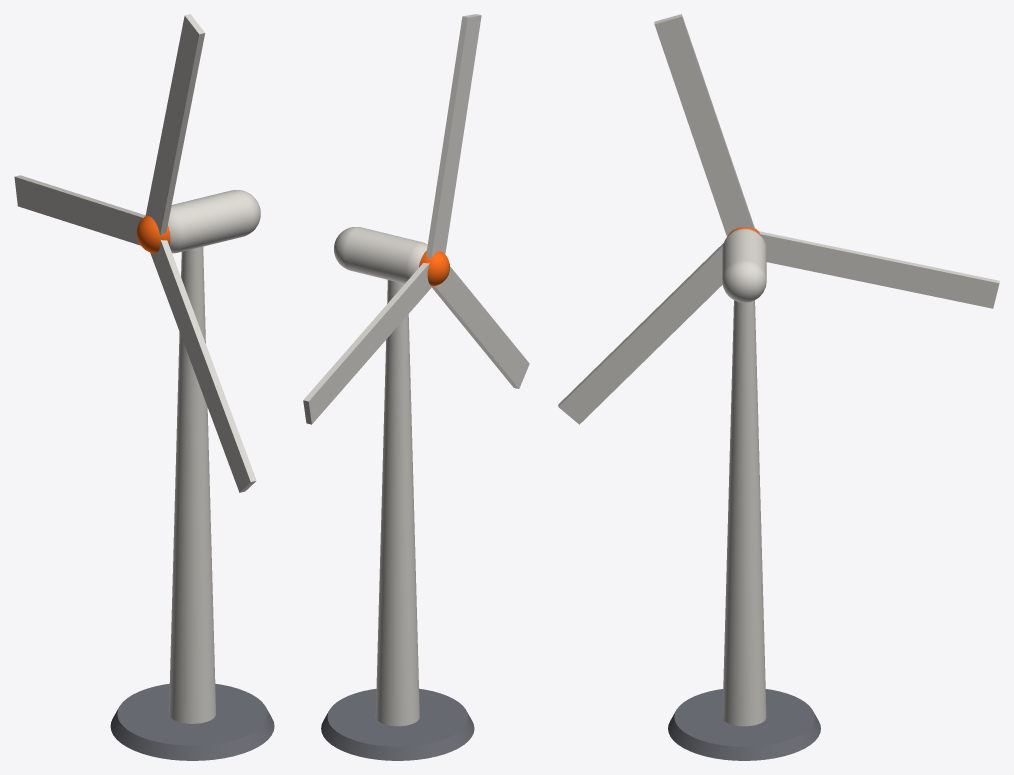
File: sample-model.glb
3 renders of one model, left to right at view 1: azimuth 30°, elevation 25°; view 2: azimuth 150°, elevation 25°; view 3: azimuth 270°, elevation 25°, orthographic. The views are drawn at different scales.
Bounding box in the file's own units: 48 × 241 × 138.
